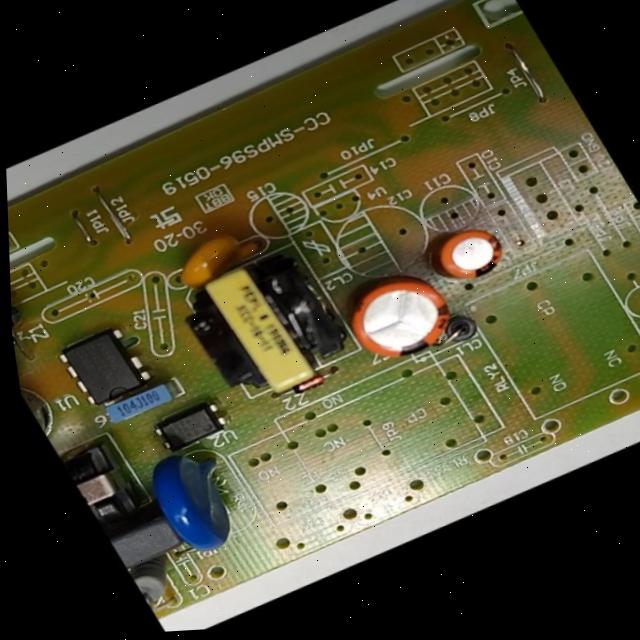Cap1: (324, 253, 472, 381)
Cap2: (410, 207, 526, 301)
MOSFET: (50, 314, 163, 416)
Mov: (131, 430, 271, 571)
Resistor: (126, 545, 203, 617)
Transformer: (158, 228, 367, 425), (60, 436, 147, 536)
